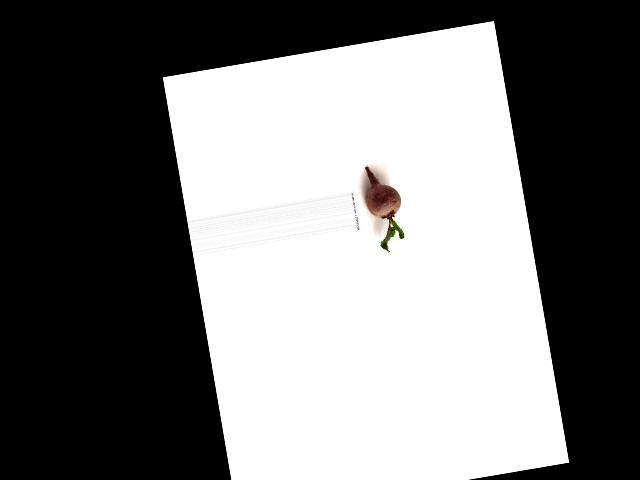beet: (360, 162, 408, 255)
